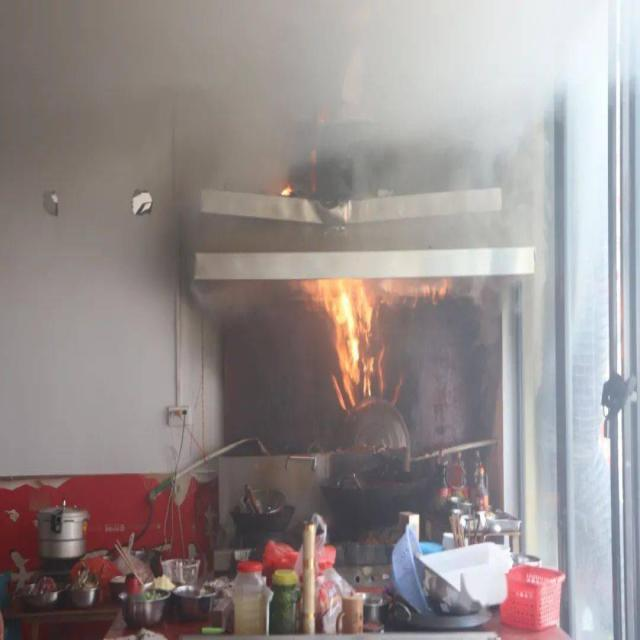Fire: (308, 276, 386, 404)
